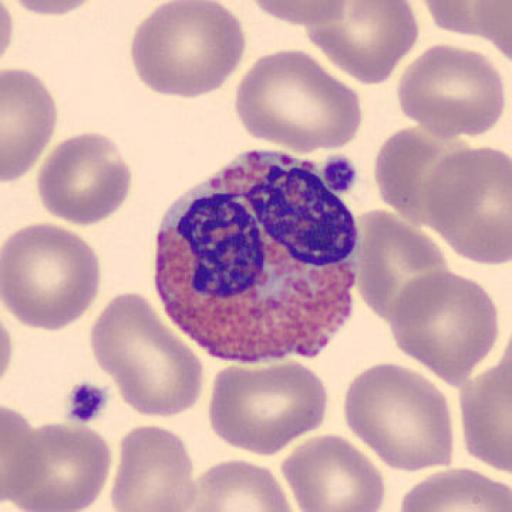RBC: (88, 290, 206, 421), (234, 48, 363, 155), (386, 268, 500, 388), (342, 362, 454, 473), (208, 360, 330, 458), (130, 0, 248, 100), (0, 220, 102, 333), (421, 144, 512, 266), (355, 208, 450, 324), (397, 42, 506, 138), (4, 420, 113, 512), (303, 0, 419, 86), (35, 131, 133, 227), (279, 431, 387, 512), (373, 125, 453, 233), (109, 423, 198, 512), (2, 66, 58, 184), (459, 354, 512, 475), (186, 457, 296, 512), (398, 465, 512, 512), (421, 0, 512, 54), (438, 0, 512, 62), (0, 402, 38, 509), (249, 0, 350, 27), (7, 0, 98, 17), (0, 306, 14, 388), (0, 0, 14, 65)
WBC: (149, 155, 362, 363)
